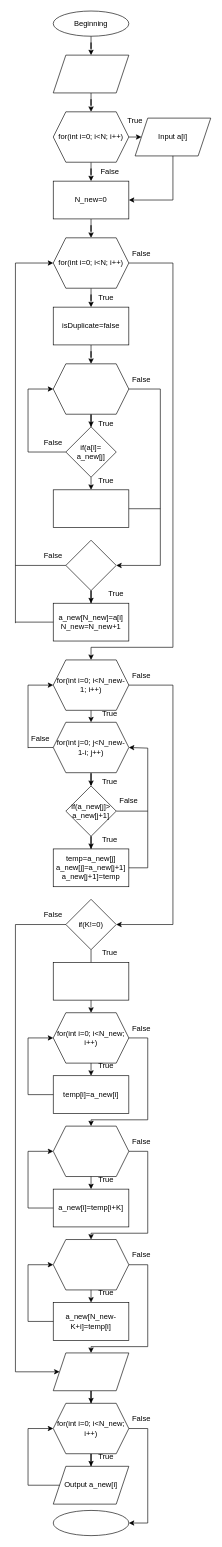
The diagram is 222 pixels wide and 1547 high, and some of its shapes have lost their labels. The shapes that lost their labels are listed below. From the top down, each one's box as (x1, y1, x2, y2) in pixels, then its label:
(53, 54, 129, 93): Input N, K
(53, 363, 129, 414): for(int j=0; j<N_new; j++)
(53, 489, 129, 528): isDuplicate=true
(65, 540, 116, 591): if(isDuplicate= false
(53, 962, 129, 1000): K=K%N_new temp[N_new]
(53, 1125, 129, 1177): for(int i=0; i<N_new-K; i++)
(53, 1239, 129, 1290): for(int i=0; i<K; i++)
(53, 1352, 129, 1391): Output N_new
(53, 1510, 129, 1536): End
